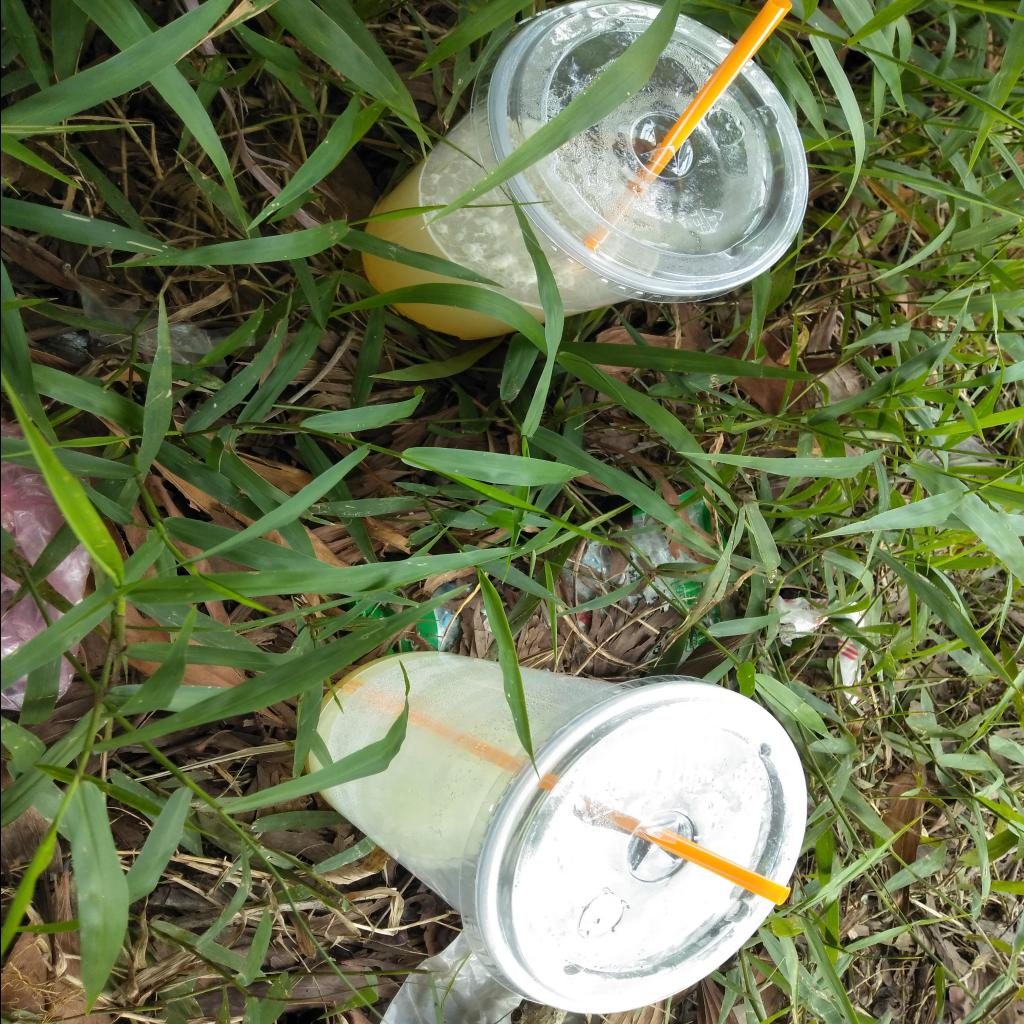Disposable plastic cup: (306, 652, 806, 1014), (359, 1, 809, 340)
Other plastic: (346, 486, 740, 668)
Plastic film: (0, 422, 90, 712), (377, 931, 524, 1023), (76, 283, 240, 365), (764, 596, 864, 706)
Plastic lid: (458, 676, 806, 1014), (468, 2, 808, 304)
Plastic straw: (342, 679, 790, 905), (584, 1, 790, 249)
